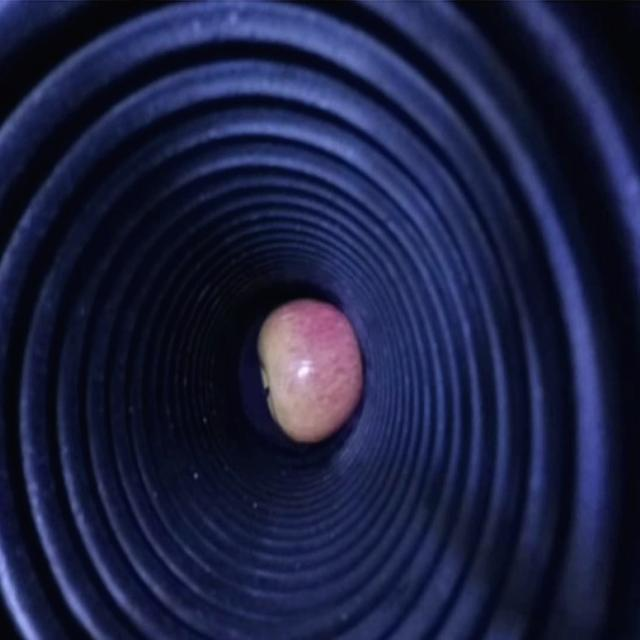obstacles: (257, 296, 364, 447)
